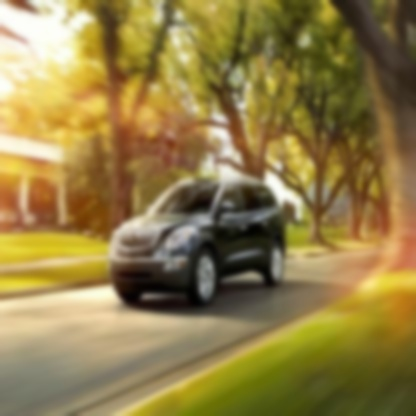Vehicle: (105, 171, 292, 310)
